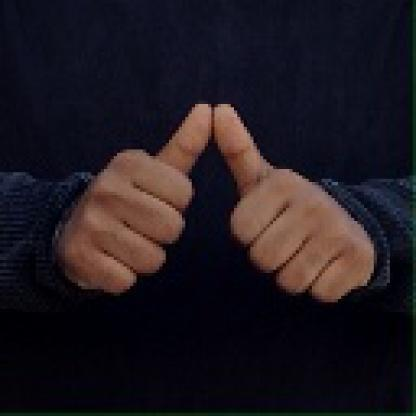A: (59, 100, 369, 304)
